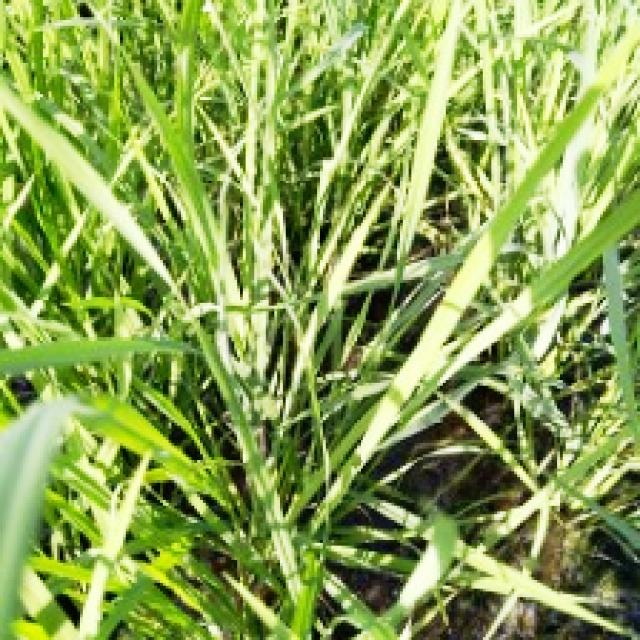health: (317, 0, 640, 426)
